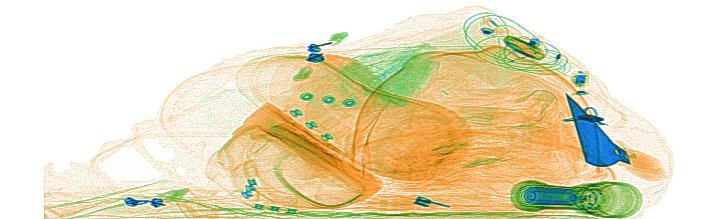battery: (522, 184, 578, 206)
